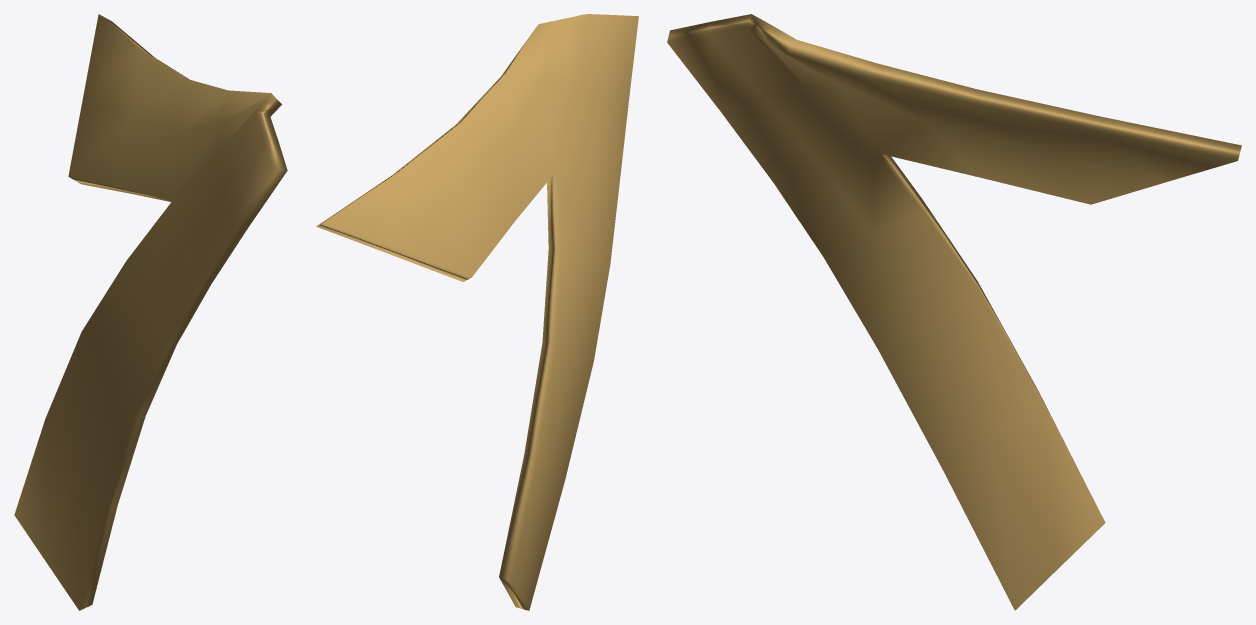
3 views of the same model, side by side, from view 1: azimuth 30°, elevation 25°; view 2: azimuth 150°, elevation 25°; view 3: azimuth 270°, elevation 25° (orthographic). The views are drawn at different scales.
Visible parts, largest first — view 1: 左侧腕关节尺侧副韧带; view 2: 左侧腕关节尺侧副韧带; view 3: 左侧腕关节尺侧副韧带.
Part boxes in pixels (left/top/right/bottom): 左侧腕关节尺侧副韧带: left=14, top=14, right=287, bottom=610; 左侧腕关节尺侧副韧带: left=316, top=14, right=638, bottom=610; 左侧腕关节尺侧副韧带: left=667, top=14, right=1241, bottom=610.
Bounding box in the file's own units: 0.00811 × 0.0278 × 0.0233.
